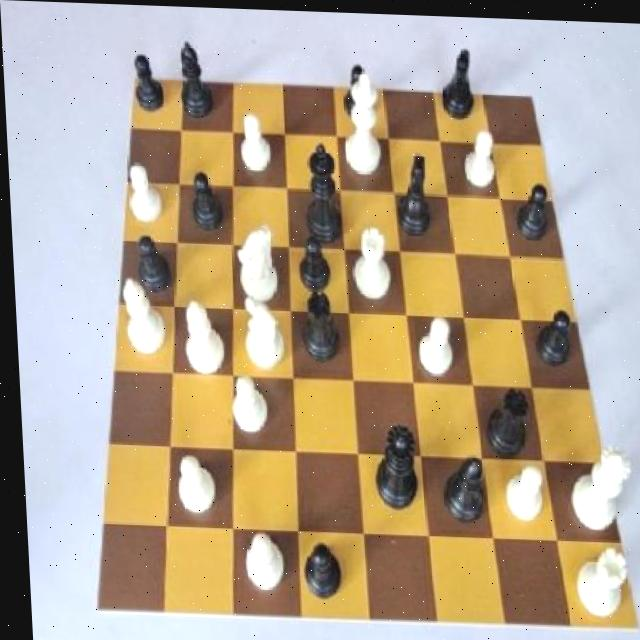bishop: (430, 444, 484, 523), (176, 34, 215, 120)
black-bishop: (295, 133, 345, 251)
black-king: (383, 146, 435, 242), (430, 34, 481, 118)
black-knight: (502, 167, 554, 244), (524, 298, 578, 372), (291, 531, 341, 610), (125, 227, 171, 303), (179, 165, 226, 235), (336, 53, 380, 125), (124, 44, 169, 113), (287, 231, 333, 298)
black-pawn: (363, 417, 416, 517)
black-queen: (472, 379, 532, 457), (291, 287, 343, 362)
black-rook: (110, 258, 170, 364), (174, 291, 223, 383)
white-bishop: (331, 65, 386, 171)
white-king: (226, 219, 283, 306), (235, 294, 287, 377)
white-knight: (167, 443, 220, 525), (218, 367, 272, 441), (407, 305, 458, 382), (492, 455, 544, 527), (234, 524, 283, 597), (231, 105, 278, 179), (454, 115, 499, 192), (121, 151, 166, 228)
white-pawn: (556, 439, 632, 537)
white-queen: (562, 540, 629, 618), (347, 219, 395, 307)
